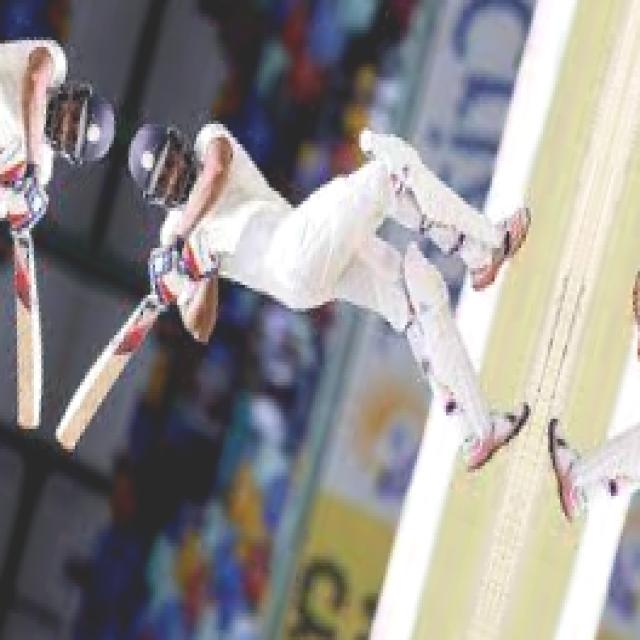toe: (45, 418, 83, 464)
